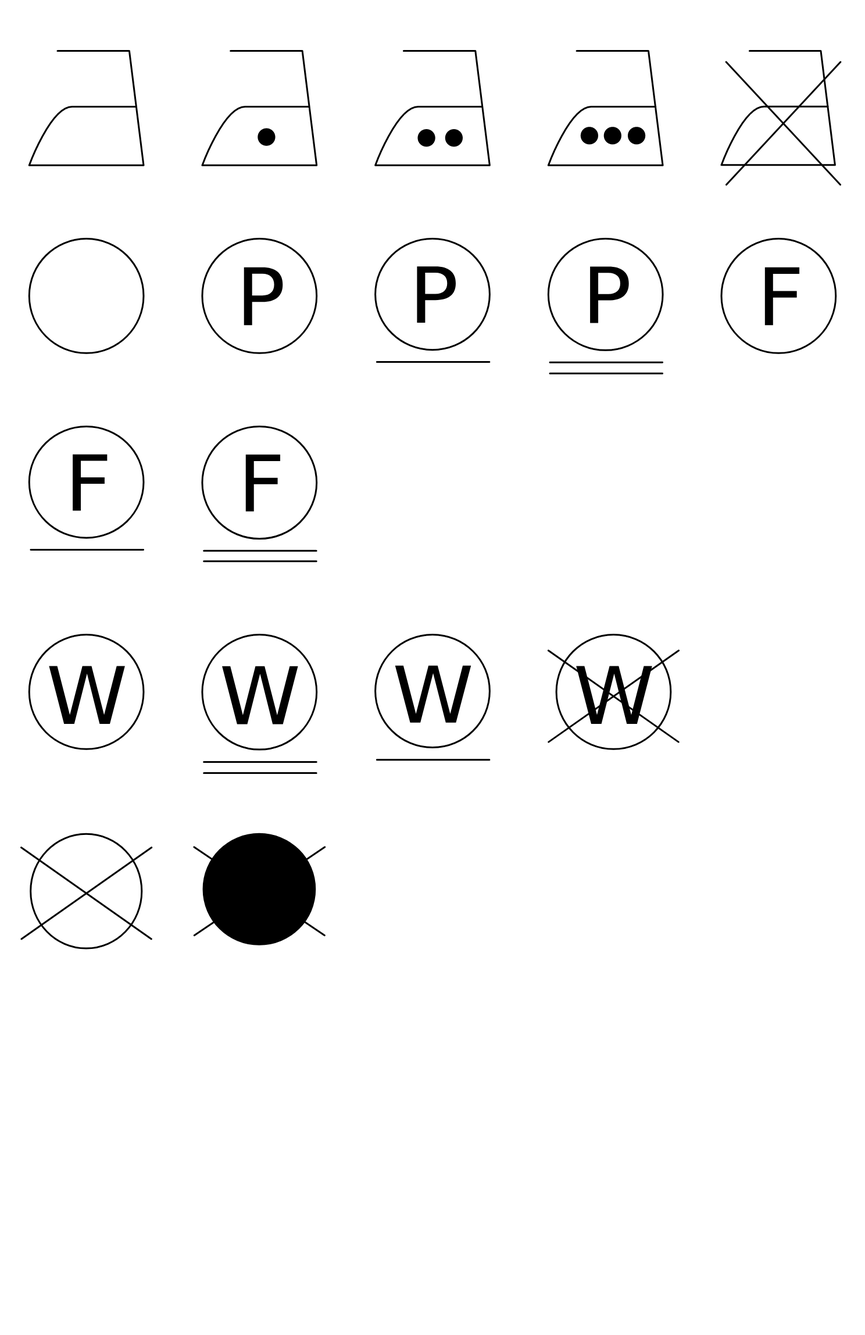ER_dry_clean: (20, 227, 151, 360)
ER_dry_clean_chemical: (191, 228, 326, 361)
ER_dry_clean_chemical_mild: (367, 230, 496, 381)
ER_dry_clean_hydrocarbon: (19, 413, 153, 561), (710, 222, 844, 361)
ER_dry_clean_hydrocarbon_mild: (188, 415, 325, 578)
ER_iron: (17, 42, 161, 176)
ER_iron_high_temp: (539, 39, 673, 171)
ER_iron_low_temp: (193, 42, 328, 176)
ER_iron_medium_temp: (367, 42, 500, 175)
ER_no_dry_clean: (14, 820, 164, 966)
ER_no_iron: (716, 41, 846, 195)
ER_no_wet_clean: (534, 615, 693, 771)
